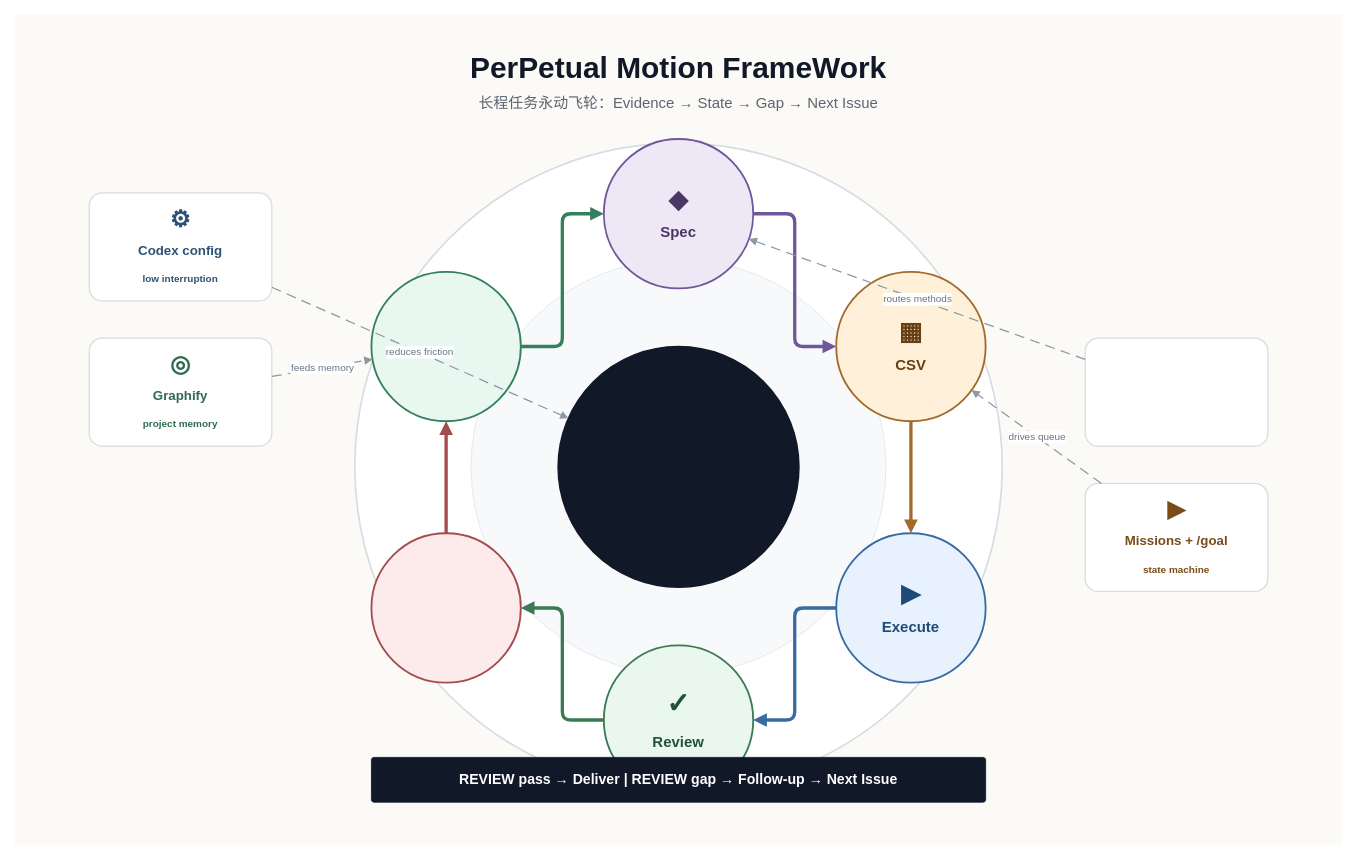
This 1356x858 diagram has some shape labels left out. Here are the shapes that lost their labels. From the top down, the box of each, then its label:
(370, 270, 521, 422): ◎ Graph Update
(1084, 337, 1268, 446): ◆ Agent Skills + Superpowers
(557, 345, 799, 588): ↻ Perpetual Loop 证据驱动 · 状态续跑 · 缺口回流
(370, 532, 521, 683): + Follow-up
